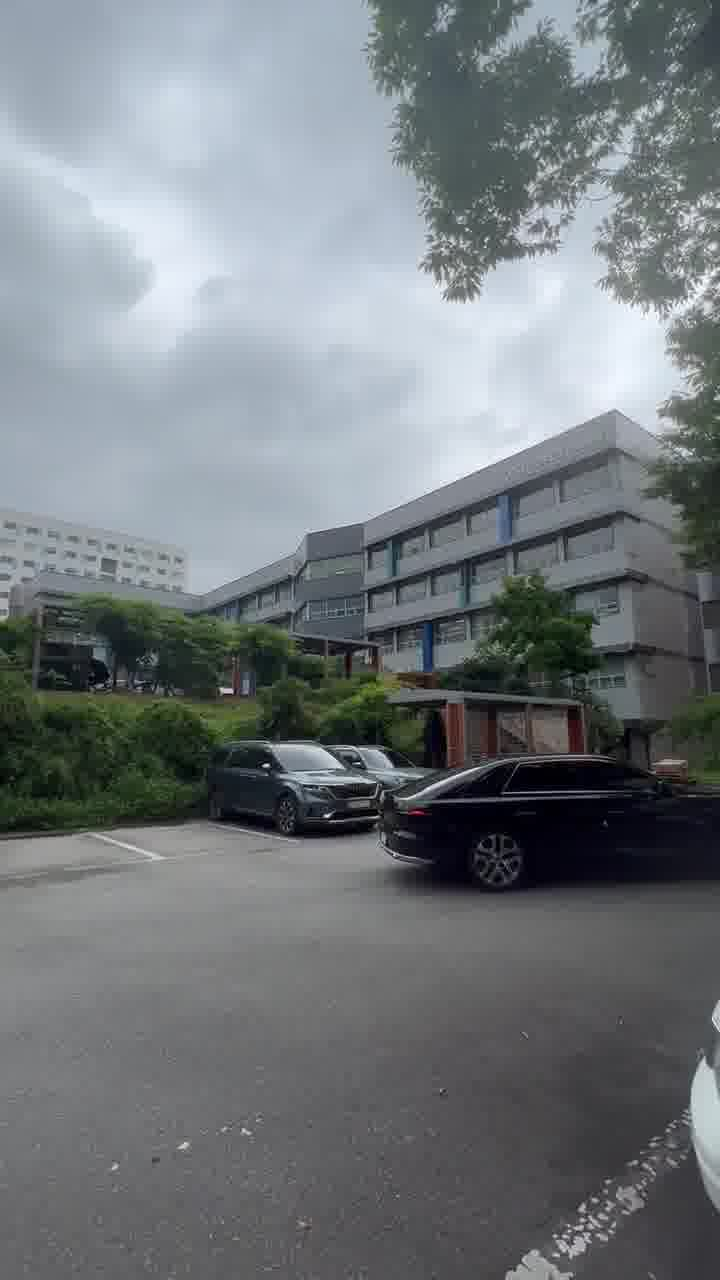low: (288, 430, 662, 650)
